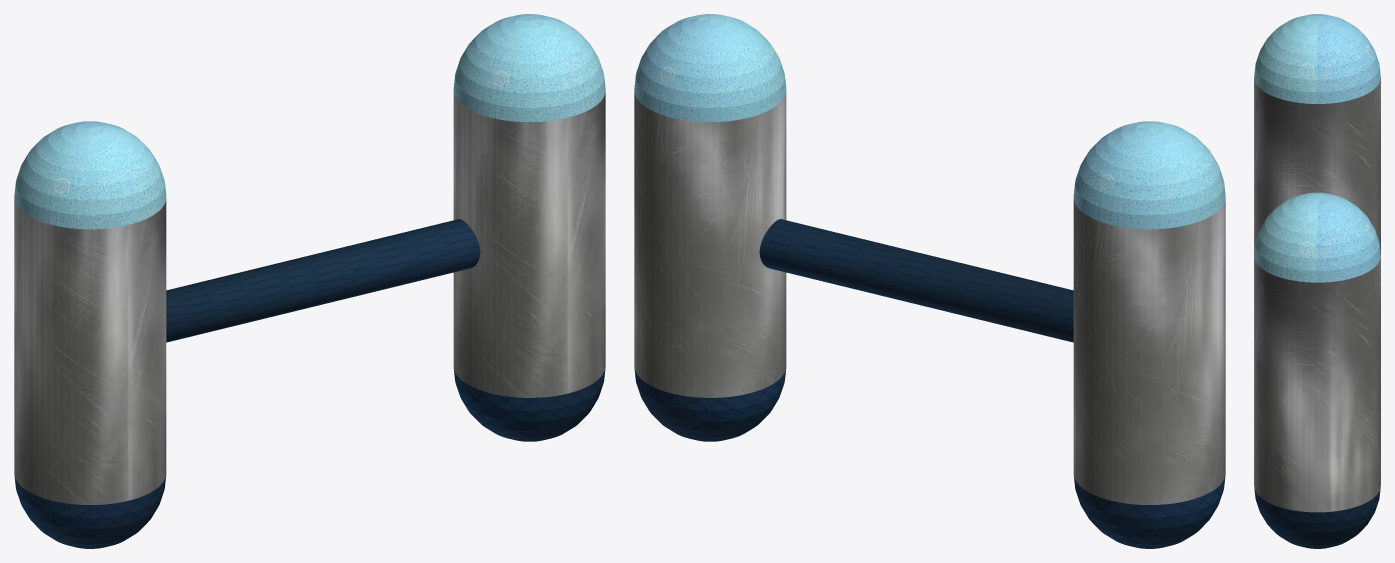
Rendered from EstacionCapsulasIzq.obj.
3 renders of one model, left to right at view 1: azimuth 30°, elevation 25°; view 2: azimuth 150°, elevation 25°; view 3: azimuth 270°, elevation 25°, orthographic. The views are drawn at different scales.
Visible parts, largest first — view 1: Sphere.008_Material, Sphere.008_Material.002, Sphere.008_Material.004; view 2: Sphere.008_Material, Sphere.008_Material.002, Sphere.008_Material.004; view 3: Sphere.008_Material, Sphere.008_Material.004, Sphere.008_Material.002.
Part boxes in pixels (box(x1,y1,x2,y2)): Sphere.008_Material: box(14, 92, 605, 504); Sphere.008_Material.002: box(14, 219, 605, 548); Sphere.008_Material.004: box(14, 14, 605, 229); Sphere.008_Material: box(634, 92, 1225, 504); Sphere.008_Material.002: box(634, 219, 1225, 548); Sphere.008_Material.004: box(634, 14, 1225, 229); Sphere.008_Material: box(1254, 78, 1380, 512); Sphere.008_Material.004: box(1254, 14, 1380, 282); Sphere.008_Material.002: box(1254, 489, 1380, 548).
Bounding box in the file's own units: 6.5 × 4.5 × 1.5.
